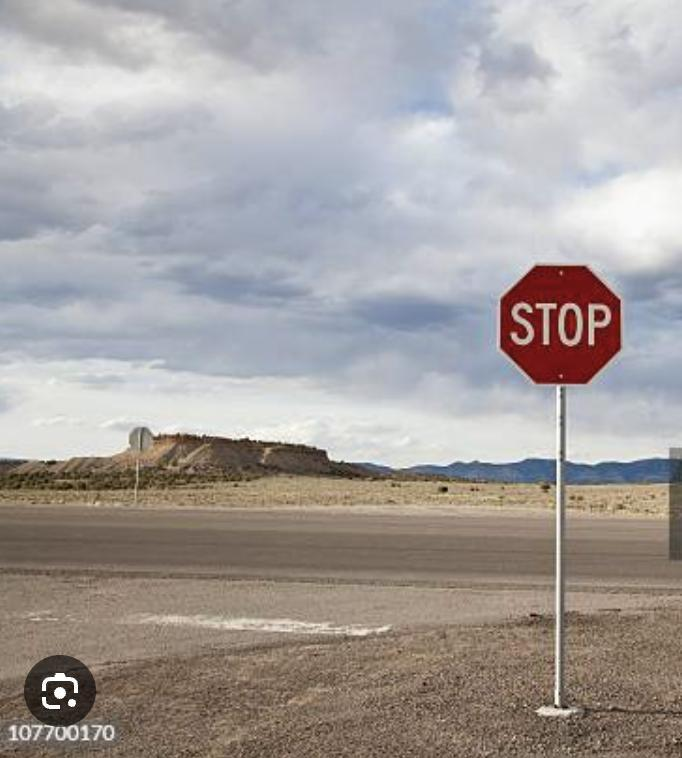Stop-Sign: (499, 265, 620, 383)
